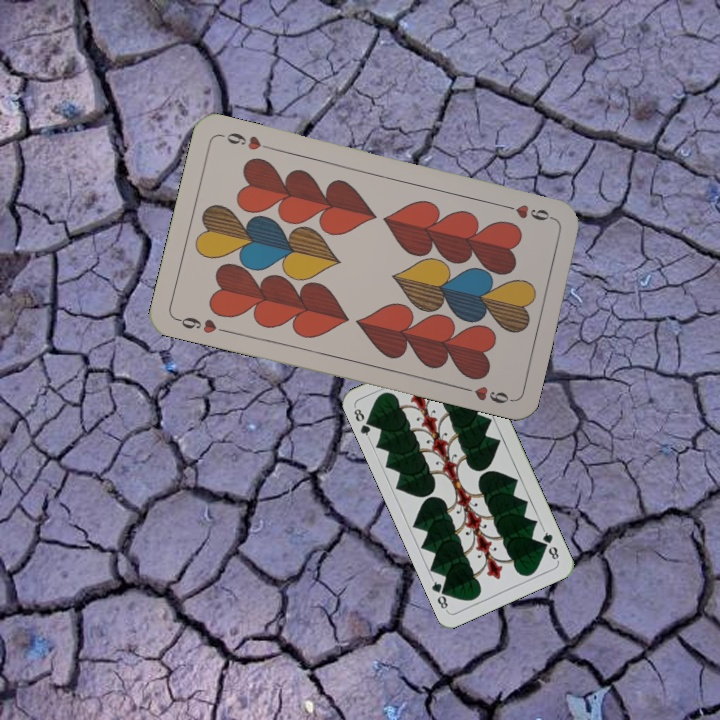G8: (350, 403, 376, 442), (538, 525, 562, 564)
H9: (172, 312, 231, 336), (498, 200, 557, 224)
